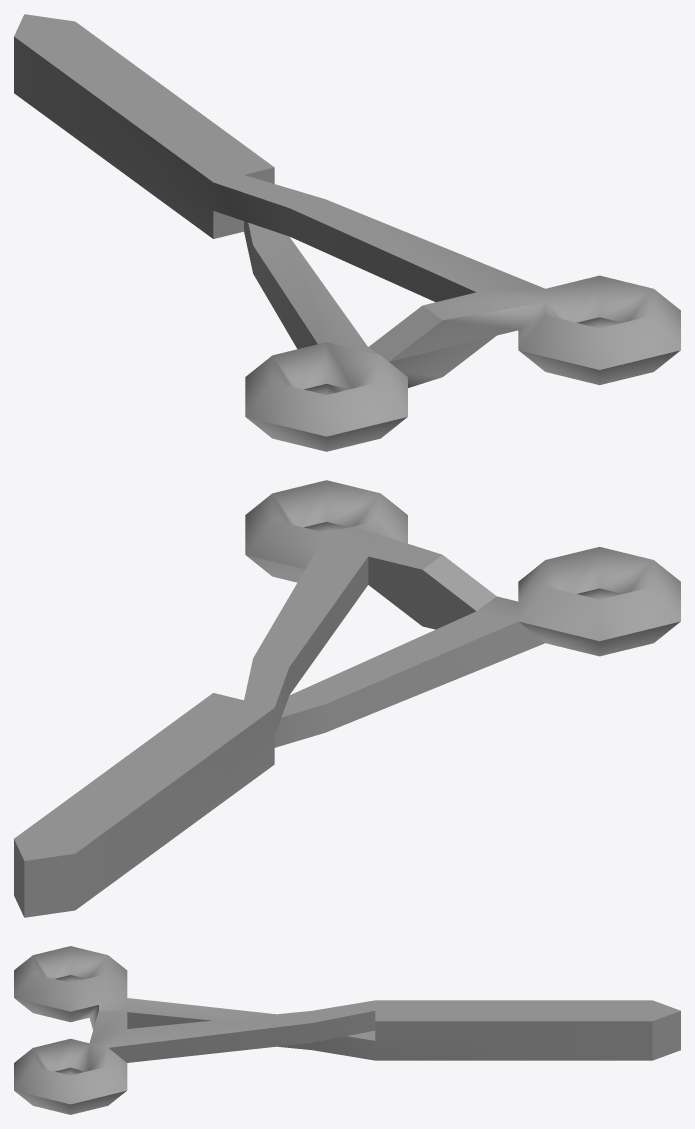
File: Surgical Tool 03.fbx
3 views of the same model, one above another, from view 1: azimuth 30°, elevation 25°; view 2: azimuth 150°, elevation 25°; view 3: azimuth 270°, elevation 25° (orthographic). The views are drawn at different scales.
Visible parts, largest first — view 1: Surgical_Tool_03; view 2: Surgical_Tool_03; view 3: Surgical_Tool_03.
Boxes of the visible parts, <box> form: Surgical_Tool_03: <box>14,14,680,451</box>; Surgical_Tool_03: <box>14,480,680,917</box>; Surgical_Tool_03: <box>14,946,680,1114</box>.
Size of the model in its own units: 30.85 by 3.84 by 58.8.
